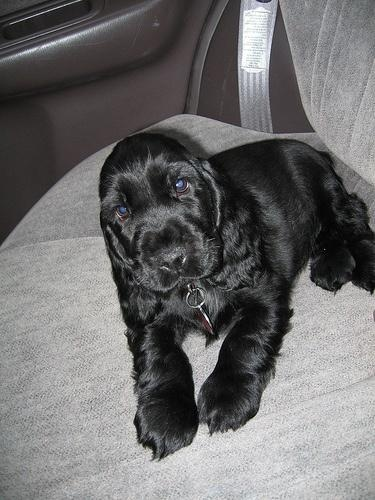dog: (102, 118, 375, 458)
